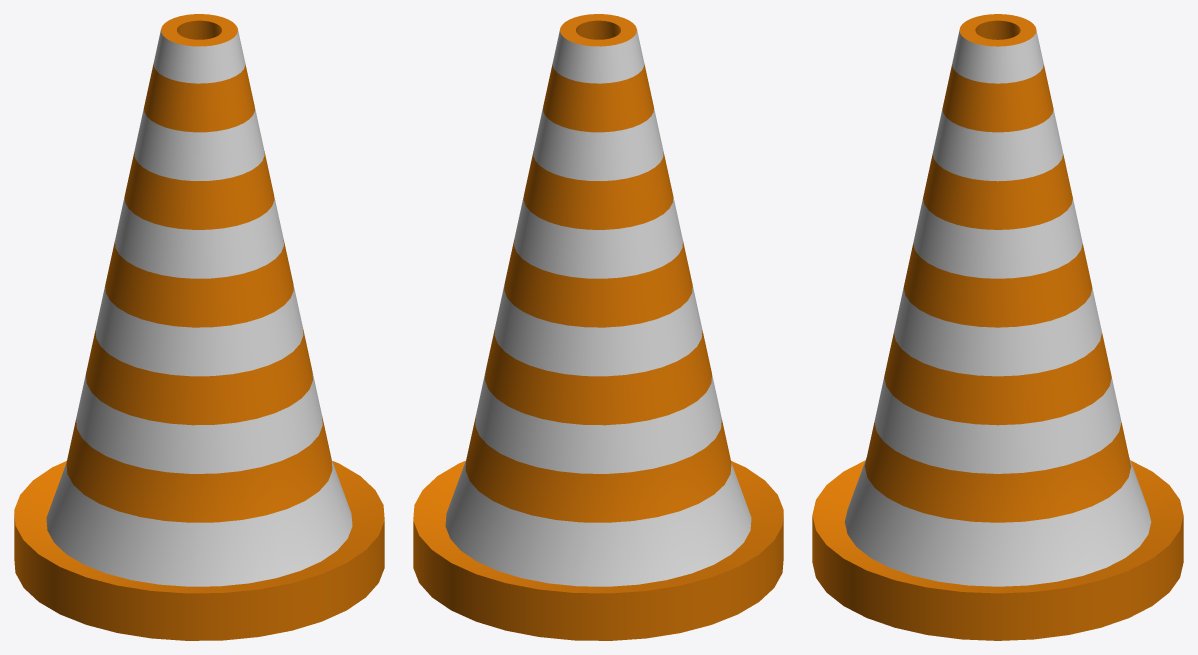
Rendered from cone_circulation.glb.
The picture shows the model from 3 angles, left to right: view 1: azimuth 30°, elevation 25°; view 2: azimuth 150°, elevation 25°; view 3: azimuth 270°, elevation 25°; orthographic projection.
Parts seen in each view (by area): view 1: Cone circulation; view 2: Cone circulation; view 3: Cone circulation.
Part boxes in pixels (x1,y1,x2,y2): Cone circulation: [14, 14, 384, 640]; Cone circulation: [413, 14, 783, 640]; Cone circulation: [812, 14, 1183, 640].
Bounding box in the file's own units: 2 × 3.16 × 2.
